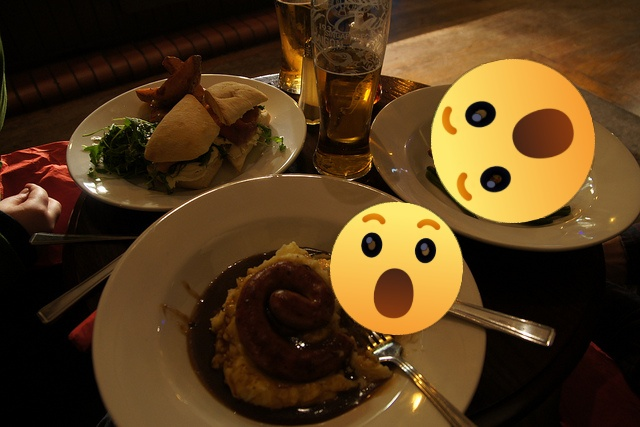wow: (431, 59, 595, 223), (330, 202, 463, 335)
